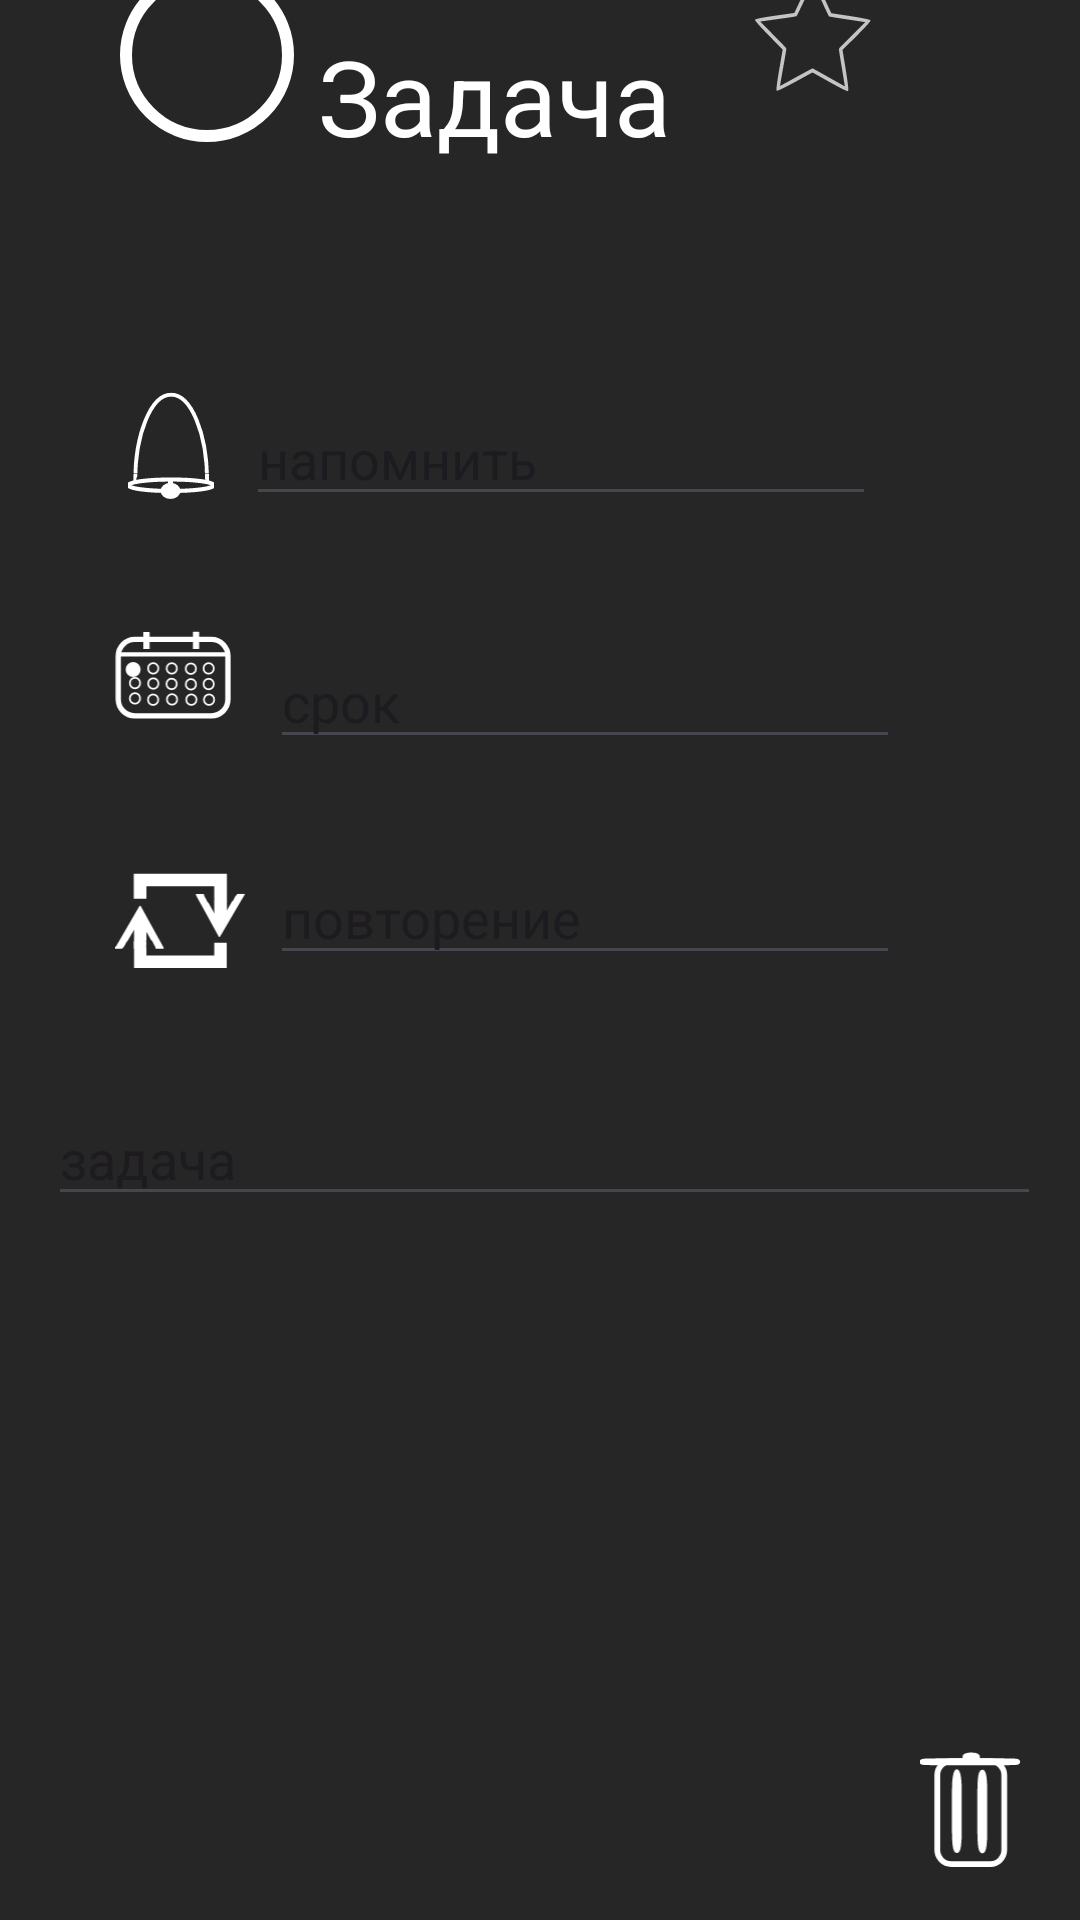

Icons on this 1080 × 1920 Android screen, each with the point to tap as point (x, y):
arrow: point (180, 920)
calendar: point (173, 675)
garbage: point (970, 1809)
